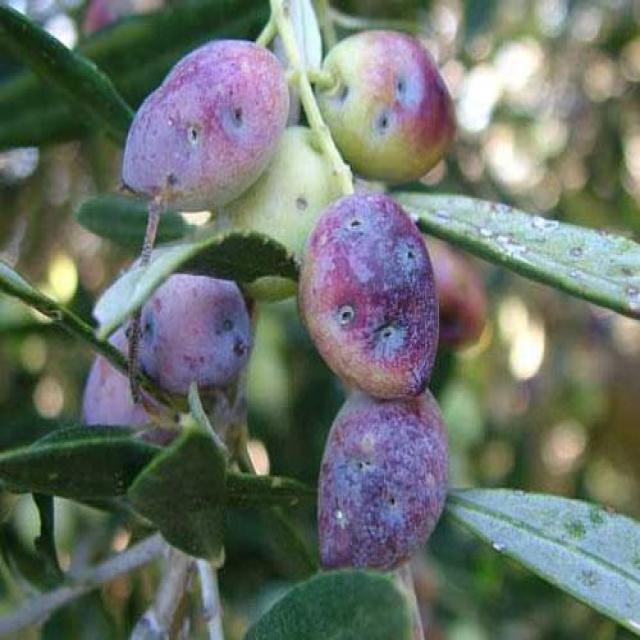Olive Fruit Fly: (300, 192, 438, 399), (123, 43, 289, 209), (317, 390, 448, 570), (316, 30, 454, 182)
